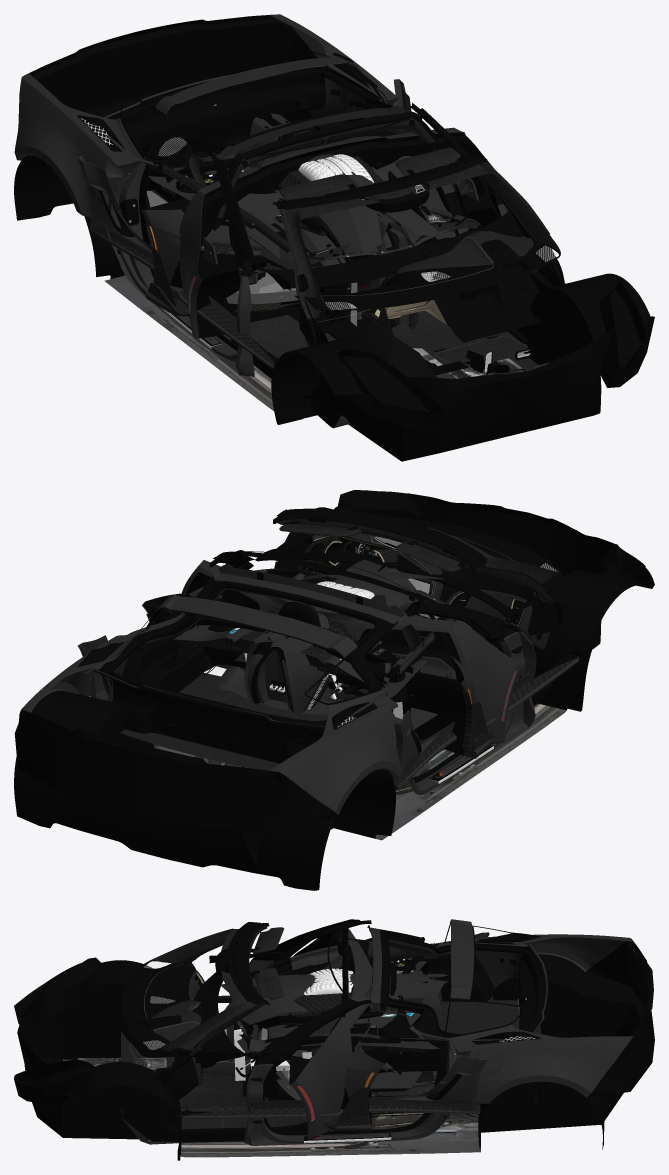
Rendered from chevrolet-zr1.glb.
3 renders of one model, top to bottom at view 1: azimuth 30°, elevation 25°; view 2: azimuth 150°, elevation 25°; view 3: azimuth 270°, elevation 25°, orthographic. The views are drawn at different scales.
Parts seen in each view (by area): view 1: C7ZR1_body_chassis, ZR1.Cabin, ZR1.Bumper.Rr, ZR1.Enginebay, ZR1.Bumper.Ft, ZR1.Sideskirts, ZR1.Fender.R, ZR1.Hood, ZR1.Tailgate, ZR1.Fender.L, ZR1.Engine, ZR1.Windshield (+3 smaller); view 2: C7ZR1_body_chassis, ZR1.Cabin, ZR1.Bumper.Rr, ZR1.Bumper.Ft, ZR1.Enginebay, ZR1.Sideskirts, ZR1.Fender.R, ZR1.Hood, ZR1.Door.L, ZR1.Tailgate, ZR1.Door.R, ZR1.Fender.L (+1 smaller); view 3: C7ZR1_body_chassis, ZR1.Cabin, ZR1.Bumper.Rr, ZR1.Enginebay, ZR1.Sideskirts, ZR1.Bumper.Ft, ZR1.Fender.L, ZR1.Hood, ZR1.Tailgate, ZR1.Engine, ZR1.Wheel.Bk.R, ZR1.Fender.R (+1 smaller).
Part boxes in pixels (x1=…): C7ZR1_body_chassis: x1=14, y1=14, x2=654, y2=461; ZR1.Cabin: x1=100, y1=65, x2=564, y2=428; ZR1.Bumper.Rr: x1=179, y1=127, x2=497, y2=338; ZR1.Enginebay: x1=152, y1=130, x2=470, y2=333; ZR1.Bumper.Ft: x1=141, y1=131, x2=465, y2=316; ZR1.Sideskirts: x1=77, y1=79, x2=565, y2=368; ZR1.Fender.R: x1=248, y1=117, x2=443, y2=253; ZR1.Hood: x1=148, y1=145, x2=455, y2=315; ZR1.Tailgate: x1=248, y1=207, x2=480, y2=284; ZR1.Fender.L: x1=270, y1=113, x2=421, y2=255; ZR1.Engine: x1=267, y1=156, x2=412, y2=290; ZR1.Windshield: x1=226, y1=272, x2=350, y2=304; C7ZR1_body_chassis: x1=14, y1=490, x2=654, y2=890; ZR1.Cabin: x1=92, y1=508, x2=564, y2=770; ZR1.Bumper.Rr: x1=181, y1=560, x2=520, y2=743; ZR1.Bumper.Ft: x1=142, y1=589, x2=494, y2=758; ZR1.Enginebay: x1=160, y1=568, x2=456, y2=719; ZR1.Sideskirts: x1=78, y1=635, x2=580, y2=789; ZR1.Fender.R: x1=270, y1=559, x2=417, y2=715; ZR1.Hood: x1=173, y1=614, x2=427, y2=698; ZR1.Door.L: x1=244, y1=566, x2=388, y2=703; ZR1.Tailgate: x1=219, y1=573, x2=472, y2=729; ZR1.Door.R: x1=265, y1=568, x2=416, y2=714; ZR1.Fender.L: x1=245, y1=571, x2=443, y2=702; C7ZR1_body_chassis: x1=14, y1=919, x2=654, y2=1160; ZR1.Cabin: x1=121, y1=922, x2=547, y2=1144; ZR1.Bumper.Rr: x1=289, y1=929, x2=372, y2=1138; ZR1.Enginebay: x1=233, y1=937, x2=438, y2=1098; ZR1.Sideskirts: x1=179, y1=932, x2=489, y2=1118; ZR1.Bumper.Ft: x1=308, y1=938, x2=387, y2=1131; ZR1.Fender.L: x1=220, y1=974, x2=447, y2=1082; ZR1.Hood: x1=232, y1=961, x2=439, y2=1087; ZR1.Tailgate: x1=240, y1=987, x2=422, y2=1090; ZR1.Engine: x1=276, y1=968, x2=386, y2=1098; ZR1.Wheel.Bk.R: x1=304, y1=968, x2=353, y2=995; ZR1.Fender.R: x1=225, y1=973, x2=447, y2=1009.
Size of the model in its own units: 65860 by 36375 by 136358.
Materials: 39 (25 with a texture image).
